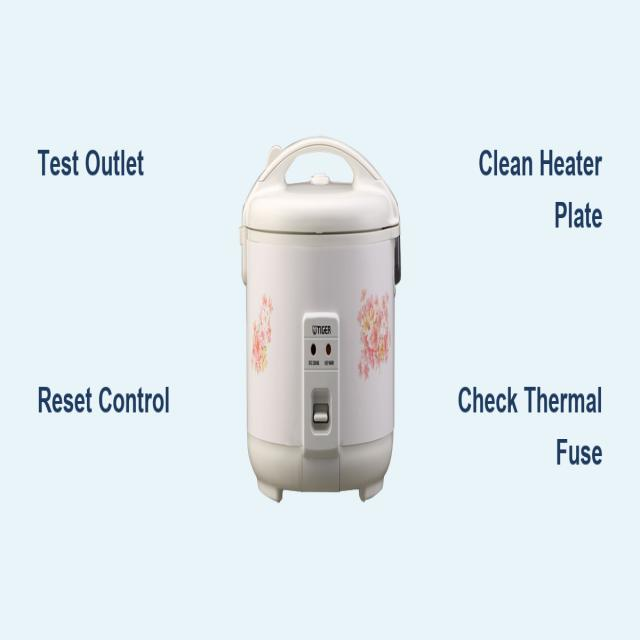appliances: (240, 137, 400, 500)
